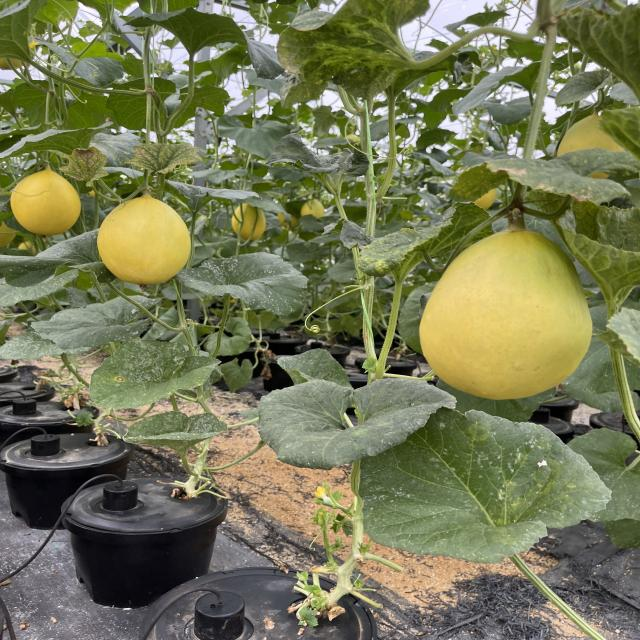CMV: (265, 0, 436, 94)
SLCV: (358, 203, 498, 280), (548, 0, 640, 98), (566, 200, 640, 302), (268, 132, 358, 178)
alternaria leaf blight: (457, 149, 630, 211), (130, 141, 206, 176), (66, 149, 108, 183)
downy mildew: (350, 407, 614, 560), (0, 228, 102, 294)
healthy: (176, 251, 312, 316), (122, 5, 248, 58), (458, 60, 554, 115), (38, 38, 125, 88), (0, 124, 107, 161), (0, 79, 62, 129), (0, 0, 41, 67), (157, 180, 254, 208), (171, 82, 231, 124), (61, 95, 114, 126), (32, 0, 86, 26)
powdery mildew: (258, 379, 444, 467), (84, 343, 215, 416), (37, 289, 160, 347), (110, 409, 231, 455), (278, 344, 356, 389), (0, 331, 85, 364)
